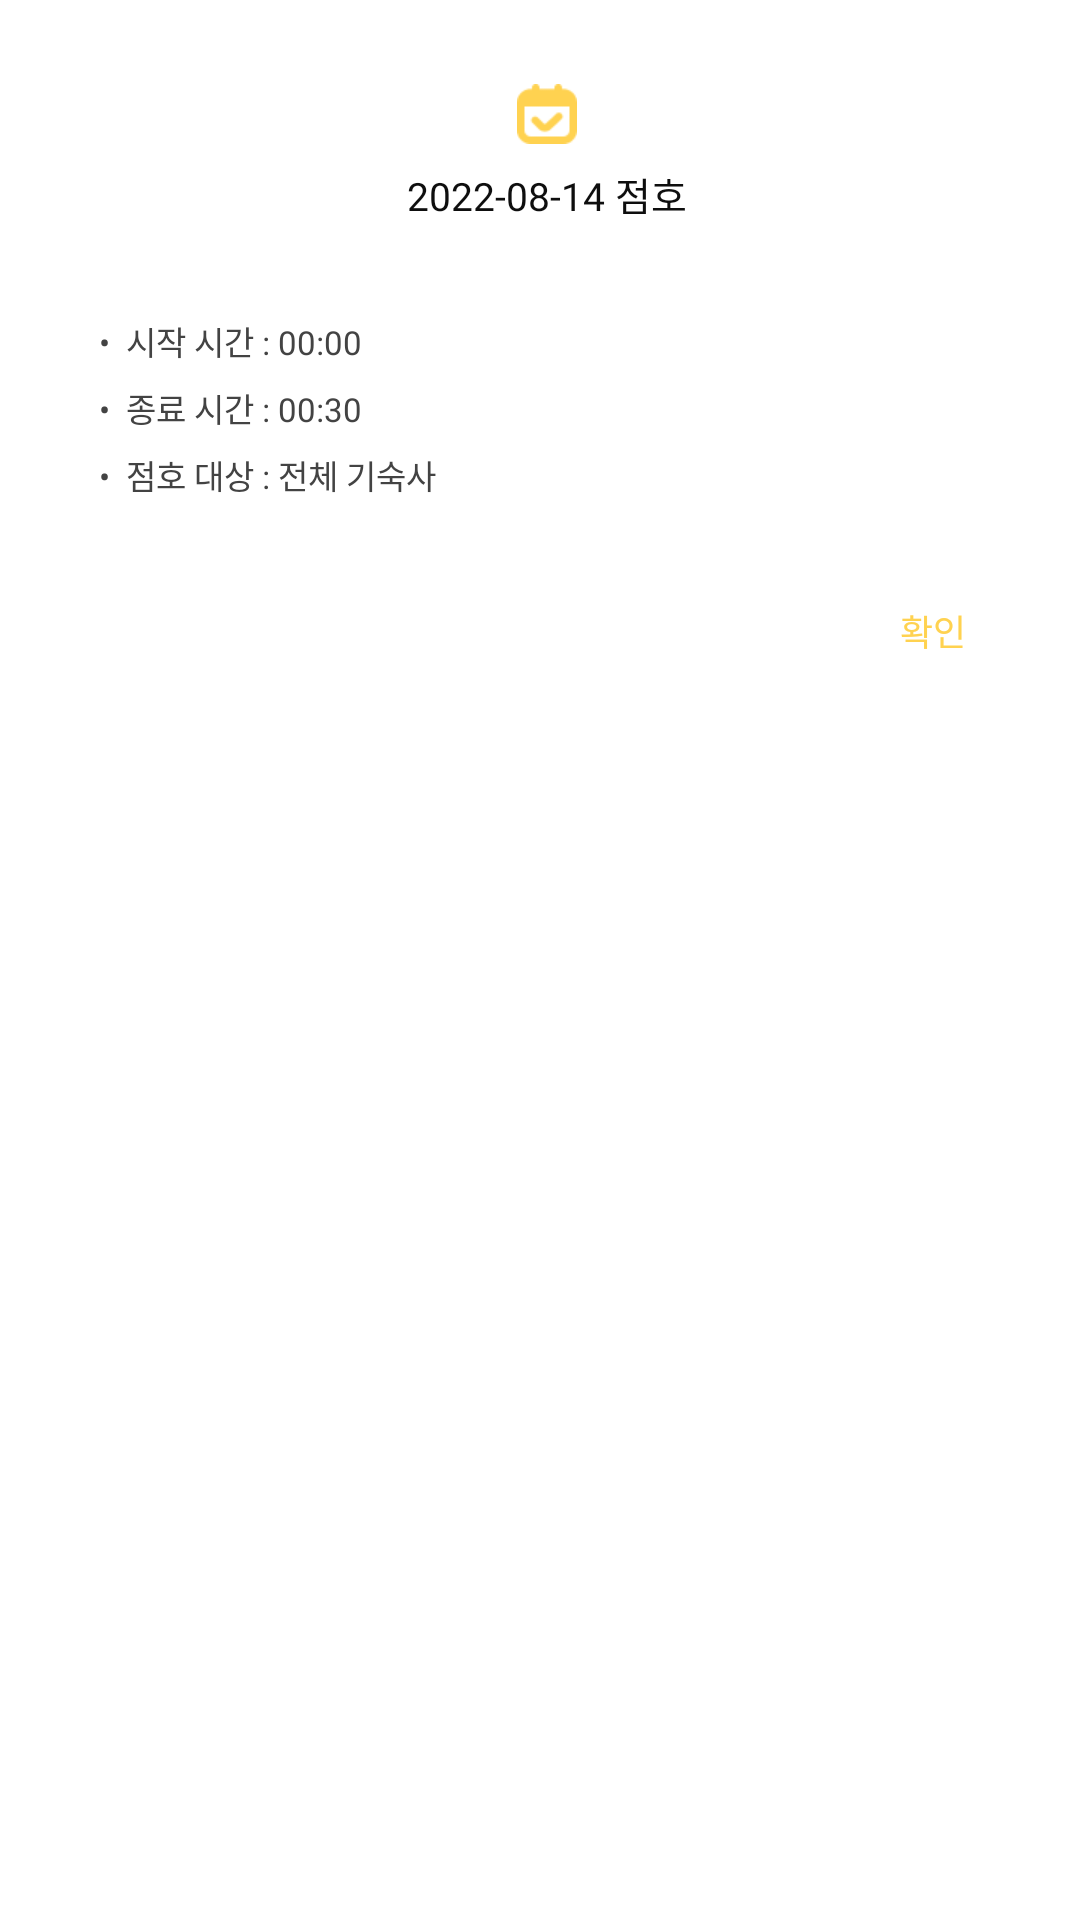

Named icons in this screenshot (1080*1920) and their bounding boxes, (x1, y1, x2, y2):
home calendar rollcall: (517, 84, 577, 144)
